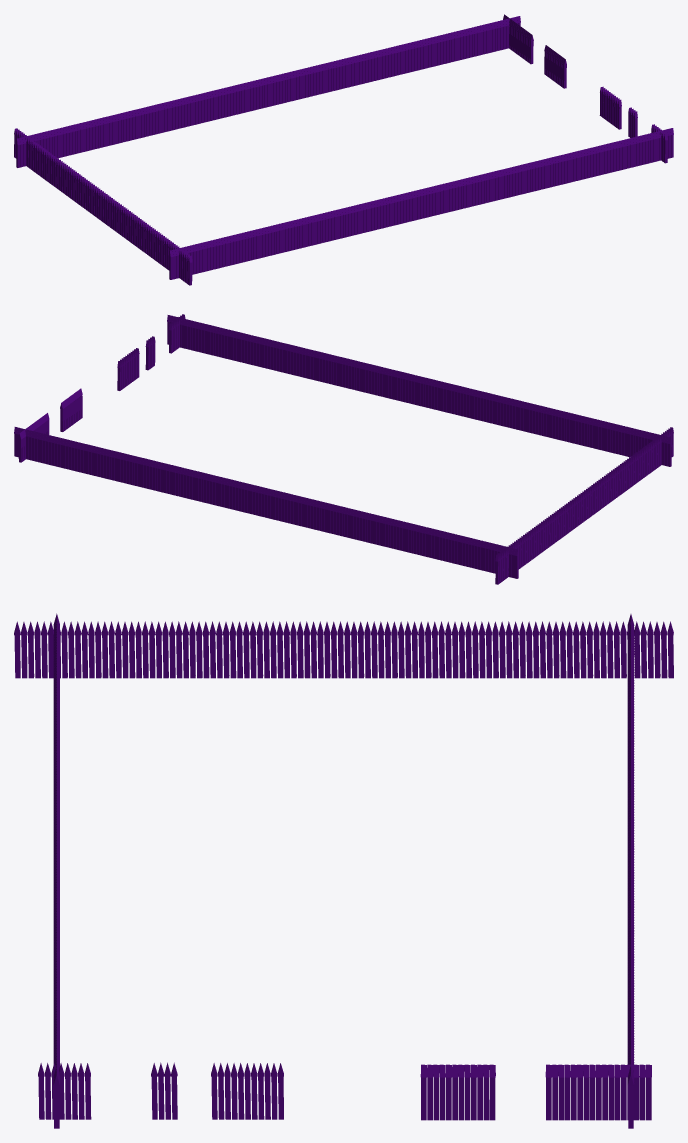
File: damaged_fence.fbx
3 renders of one model, top to bottom at view 1: azimuth 30°, elevation 25°; view 2: azimuth 150°, elevation 25°; view 3: azimuth 270°, elevation 25°, orthographic. The views are drawn at different scales.
Visible parts, largest first — view 1: fence_right, fence_left, fence_back, fence_forward_left, fence_forward_right; view 2: fence_left, fence_right, fence_back, fence_forward_right, fence_forward_left; view 3: fence_back, fence_forward_left, fence_forward_right, fence_left, fence_right.
Boxes of the visible parts, bbox=[...] form: fence_right: bbox=[169, 128, 673, 279]; fence_left: bbox=[16, 16, 520, 167]; fence_back: bbox=[14, 128, 192, 285]; fence_forward_left: bbox=[503, 14, 566, 88]; fence_forward_right: bbox=[599, 86, 667, 163]; fence_left: bbox=[14, 427, 518, 578]; fence_right: bbox=[167, 315, 671, 466]; fence_back: bbox=[495, 427, 673, 584]; fence_forward_right: bbox=[117, 314, 185, 390]; fence_forward_left: bbox=[18, 388, 82, 462]; fence_back: bbox=[14, 621, 673, 678]; fence_forward_left: bbox=[420, 1064, 651, 1120]; fence_forward_right: bbox=[38, 1062, 283, 1119]; fence_left: bbox=[627, 614, 634, 1128]; fence_right: bbox=[53, 613, 59, 1128].
Size of the model in its own units: 33497 by 1857 by 20265.
